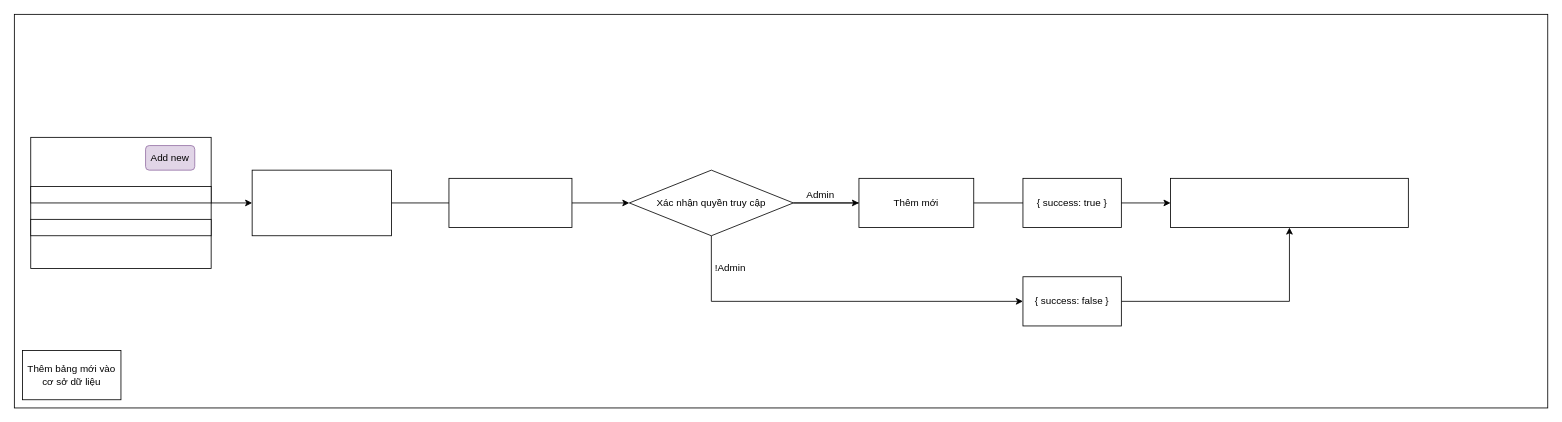
Some shapes in this 1562 by 422 pixel diagram are drawn without their labels. Here are the shapes that lost their labels. From the top down, the centre of each, then its label:
pixel 321 202: Khởi tạo dữ liệu { name: "New relation", ... }
pixel 510 203: Server tiếp nhận dữ liệu
pixel 1289 203: Tiếp nhân phản hồi
